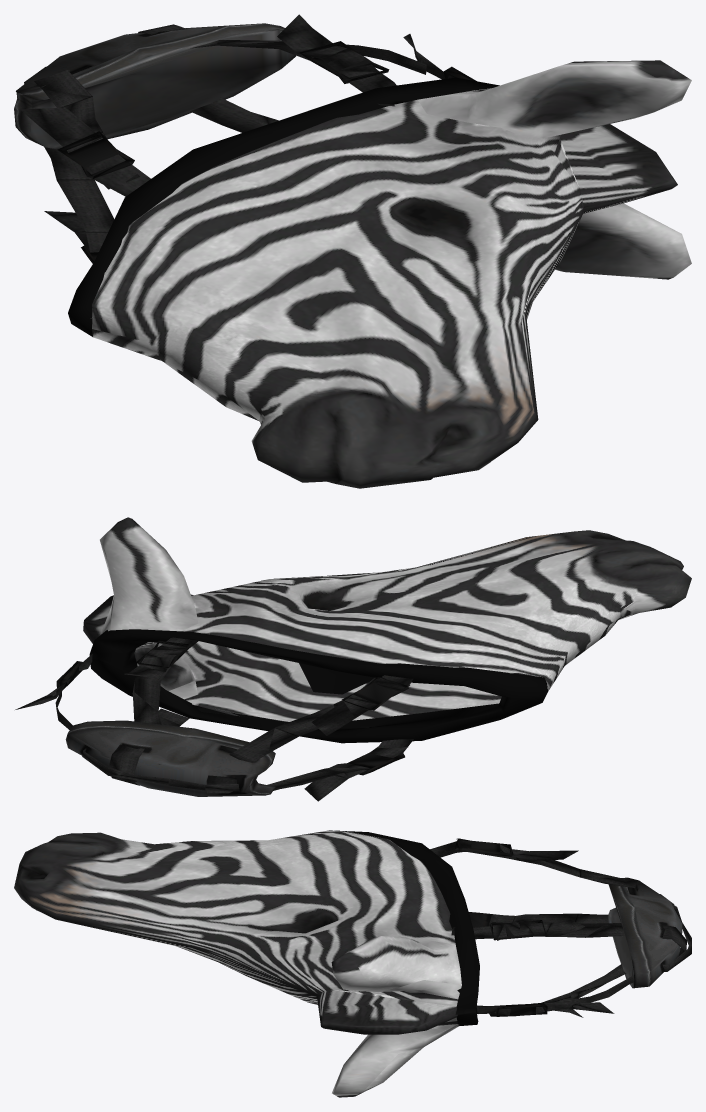
The model's file is ZebraMask_Ground.fbx.
3 views of the same model, one above another, from view 1: azimuth 30°, elevation 25°; view 2: azimuth 150°, elevation 25°; view 3: azimuth 270°, elevation 25° (orthographic). The views are drawn at different scales.
Parts seen in each view (by area): view 1: ZebraMask.001; view 2: ZebraMask.001; view 3: ZebraMask.001.
Part boxes in pixels (box(x1,y1,x2,y2)): ZebraMask.001: box(14, 14, 691, 488); ZebraMask.001: box(15, 517, 691, 801); ZebraMask.001: box(14, 830, 691, 1097).
Size of the model in its own units: 0.1752 by 0.0573 by 0.2522.
